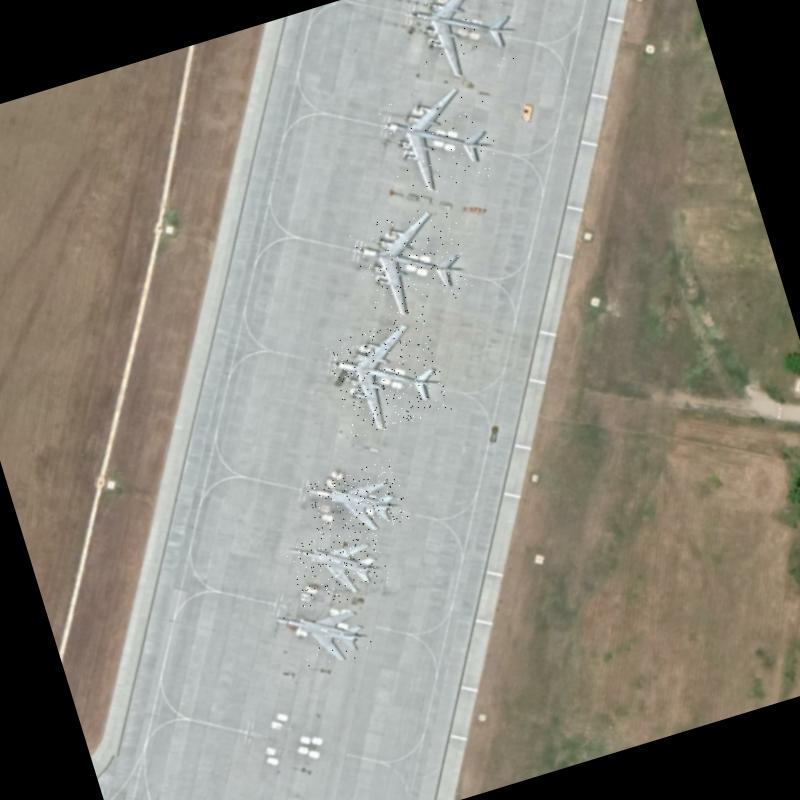A12: (284, 519, 392, 608), (303, 459, 411, 547), (272, 591, 376, 678)
A17: (348, 200, 479, 326), (376, 76, 506, 202), (324, 314, 453, 440), (399, 0, 529, 89)
